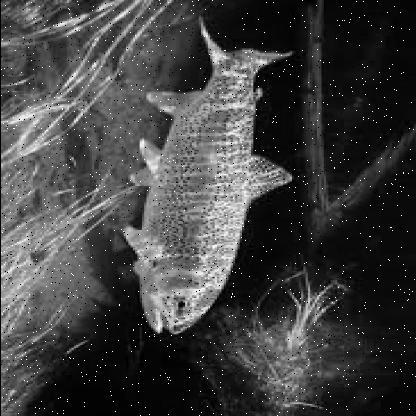fish: (129, 20, 292, 334)
